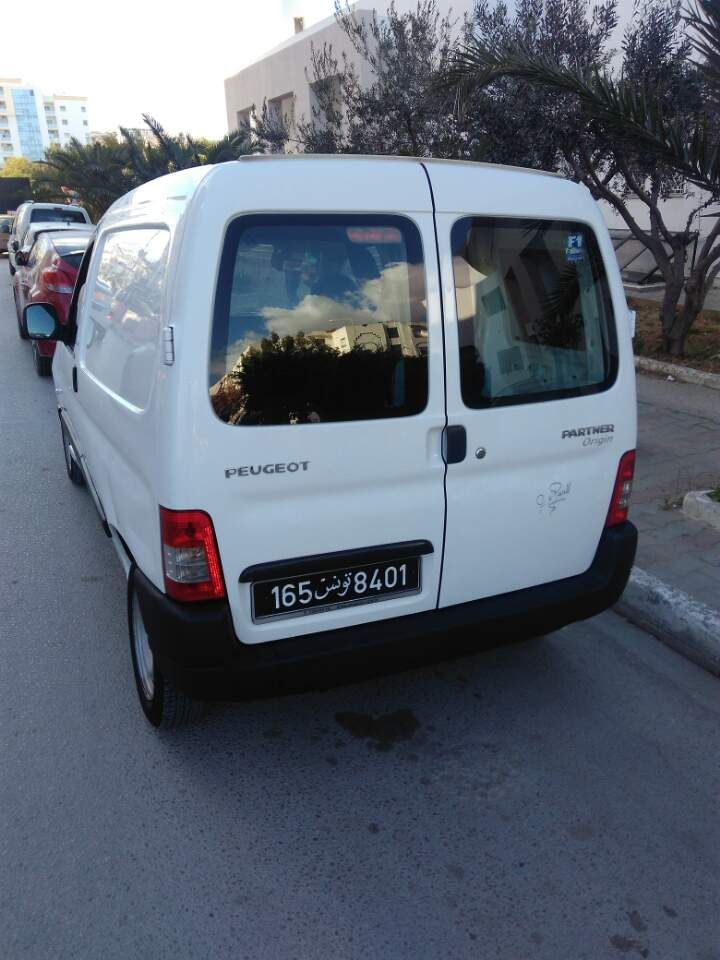LP: (250, 558, 426, 618)
